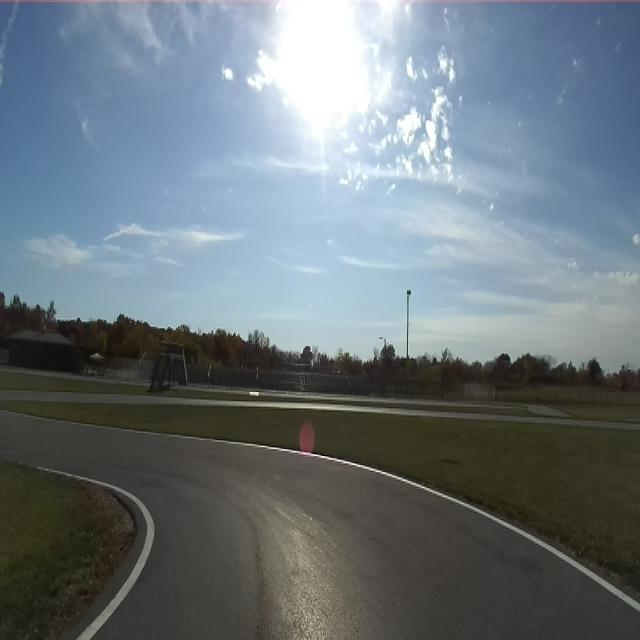white-line: (169, 434, 640, 612), (37, 467, 154, 639)
